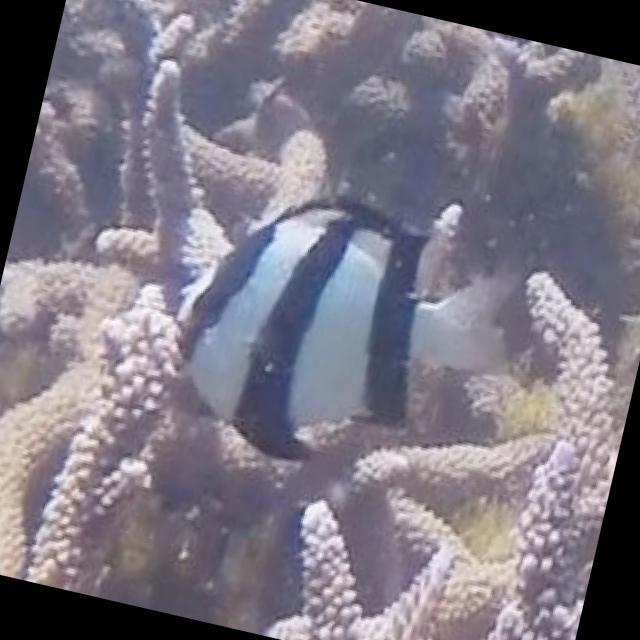ThreeStripedDamselfish: (178, 200, 508, 463)
